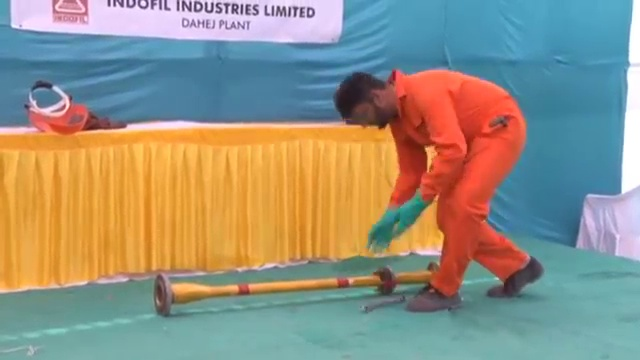helmet_off: (335, 72, 396, 132)
person: (331, 64, 547, 311)
